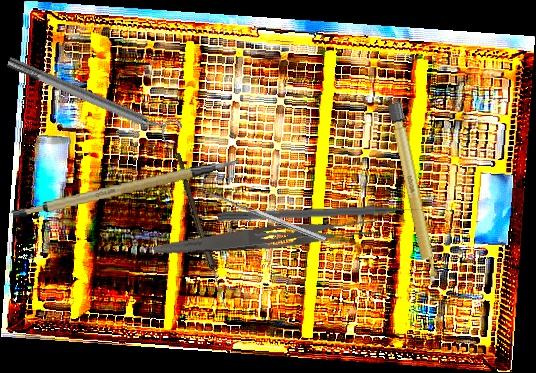Dressing Forceps: (152, 213, 379, 266)
Fixation Ring: (2, 46, 185, 150)
Pusher: (217, 204, 428, 224)
Scalpel Handle: (8, 157, 247, 224), (386, 101, 440, 286)
Spatula Surgical: (198, 187, 326, 247)
Surgical Spoon: (172, 152, 230, 310)
